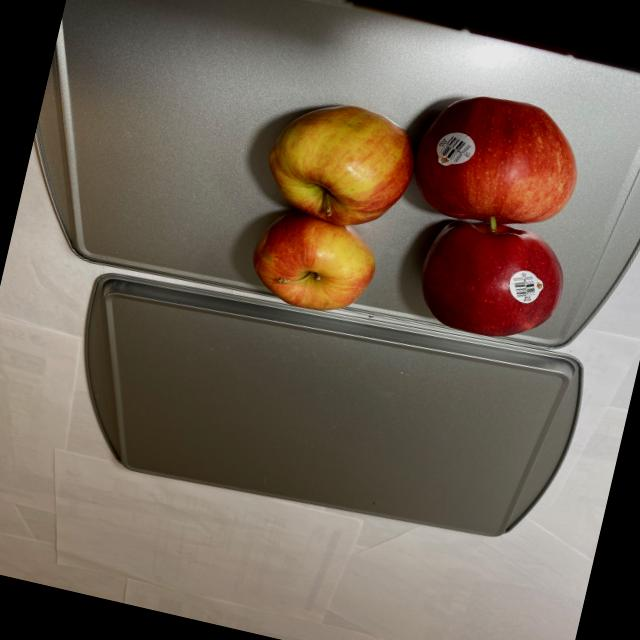apple: (236, 49, 604, 363)
